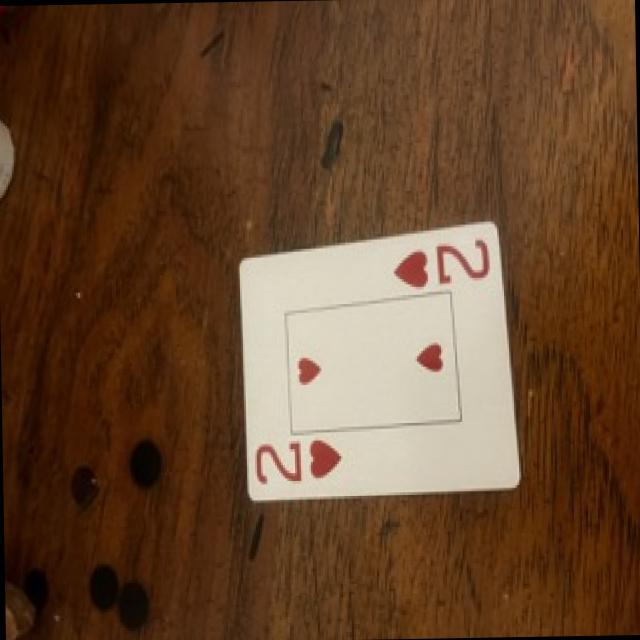2 of hearts: (240, 222, 518, 499)
